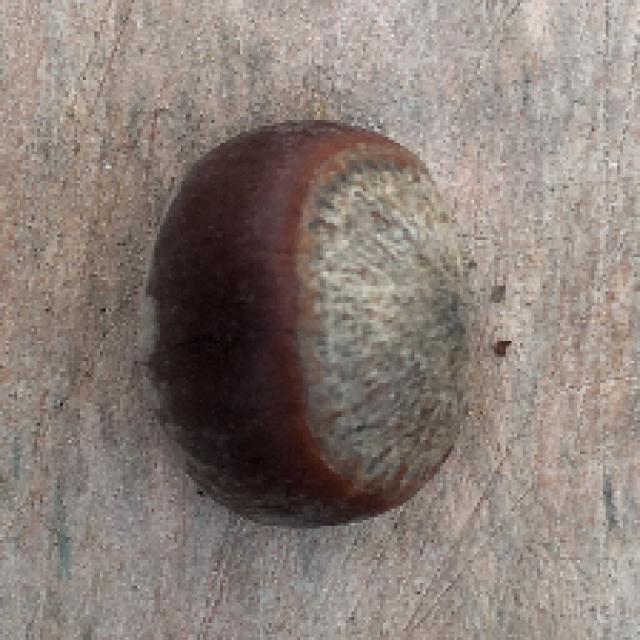damagedHazelnut: (134, 103, 494, 531)
